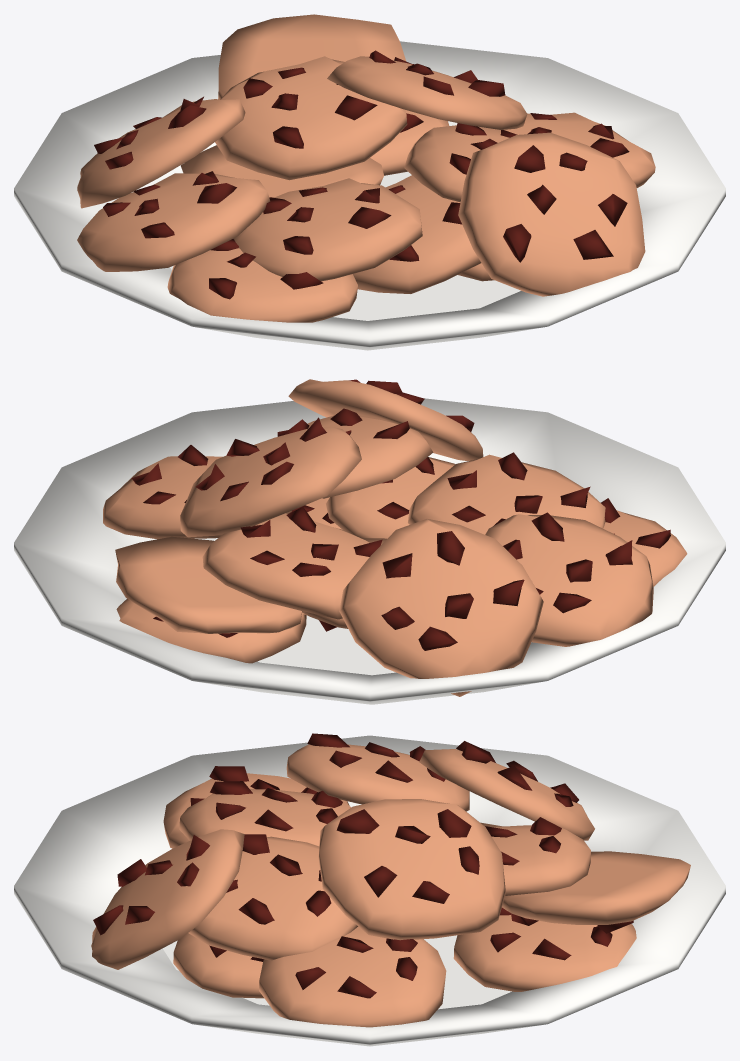
3 views of the same model, one above another, from view 1: azimuth 30°, elevation 25°; view 2: azimuth 150°, elevation 25°; view 3: azimuth 270°, elevation 25° (orthographic).
Visible parts, largest first — view 1: plate_2, cooke.009_12, cooke.008_11, cooke.007_10, cooke.004_7, cooke.011_14, cooke.005_8, cooke.013_16, cooke.006_9, cooke.000_4, cooke.002_6, cooke.012_15 (+2 smaller); view 2: plate_2, cooke.005_8, cooke.004_7, cooke.013_16, cooke.008_11, cooke.006_9, cooke.007_10, cooke.009_12, cooke.012_15, cooke.002_6, cooke.000_4, cooke.010_13 (+2 smaller); view 3: plate_2, cooke.013_16, cooke.012_15, cooke.002_6, cooke.009_12, cooke.010_13, cooke.006_9, cooke.004_7, cooke.007_10, cooke.005_8, cooke.008_11, cooke.001_5 (+1 smaller).
Boxes of the visible parts, x1,y1,x2,y2 form: plate_2: (14,41,725,350); cooke.009_12: (458,132,645,296); cooke.008_11: (215,56,407,180); cooke.007_10: (233,178,422,281); cooke.004_7: (77,171,270,271); cooke.011_14: (167,239,357,322); cooke.005_8: (77,96,245,208); cooke.013_16: (327,50,527,129); cooke.006_9: (218,14,406,99); cooke.000_4: (353,175,481,293); cooke.002_6: (404,123,517,202); cooke.012_15: (504,112,655,187); plate_2: (14,398,725,704); cooke.005_8: (339,519,543,696); cooke.004_7: (485,512,653,646); cooke.013_16: (180,417,361,537); cooke.008_11: (202,507,382,619); cooke.006_9: (115,536,302,637); cooke.007_10: (408,452,605,534); cooke.009_12: (288,379,483,460); cooke.012_15: (103,445,291,539); cooke.002_6: (277,408,433,498); cooke.000_4: (326,457,455,538); cooke.010_13: (116,599,306,663); plate_2: (14,735,725,1046); cooke.013_16: (318,799,505,940); cooke.012_15: (259,926,446,1027); cooke.002_6: (188,834,358,960); cooke.009_12: (91,829,244,969); cooke.010_13: (453,907,636,991); cooke.006_9: (502,851,690,933); cooke.004_7: (286,733,469,811); cooke.007_10: (179,781,350,846); cooke.005_8: (419,741,594,840); cooke.008_11: (485,817,590,895); cooke.001_5: (173,933,263,998).
Bounding box in the file's own units: 6 × 1.57 × 6.
